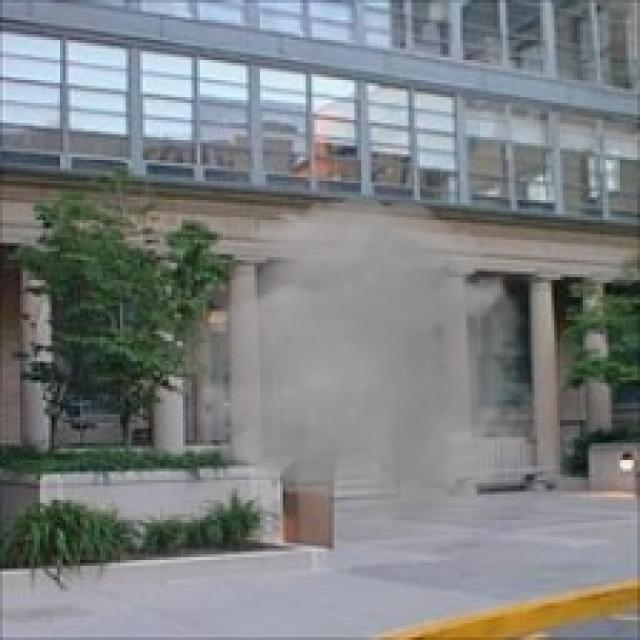smoke: (146, 188, 557, 568)
